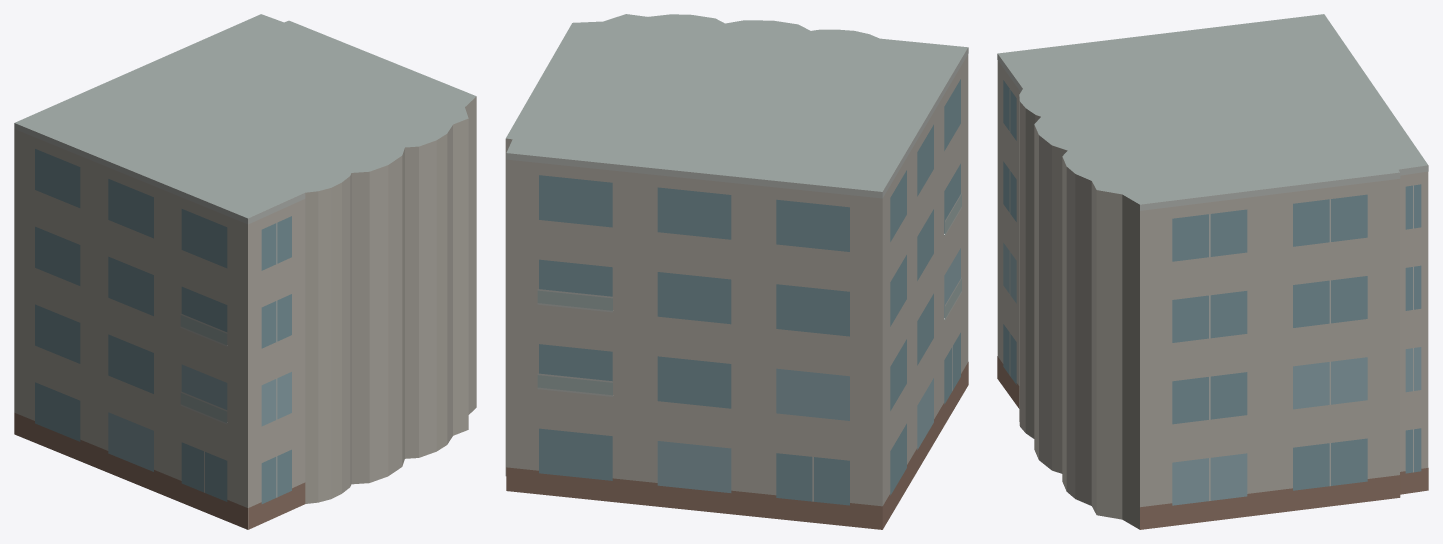
The model's file is survey-upis-32605568.glb.
3 views of the same model, side by side, from view 1: azimuth 30°, elevation 25°; view 2: azimuth 150°, elevation 25°; view 3: azimuth 270°, elevation 25° (orthographic). The views are drawn at different scales.
Parts seen in each view (by area): view 1: survey-upis-32605568.tmp; view 2: survey-upis-32605568.tmp; view 3: survey-upis-32605568.tmp.
Boxes of the visible parts, x1,y1,x2,y2 form: survey-upis-32605568.tmp: (14,14,476,529); survey-upis-32605568.tmp: (505,14,968,529); survey-upis-32605568.tmp: (997,14,1428,529).
Bounding box in the file's own units: 15.98 × 12.7 × 15.26.
